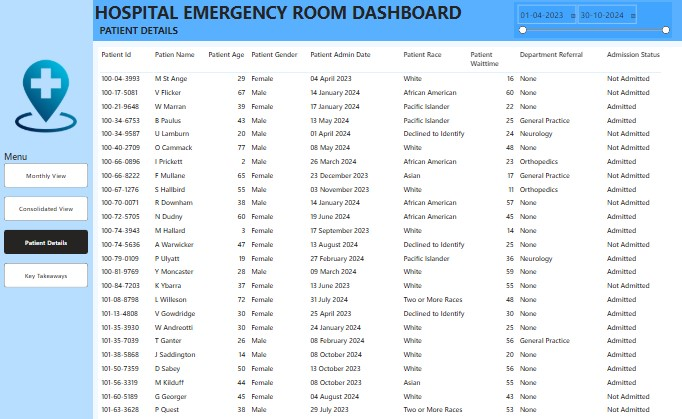

What the dashboard file says about the page in this screenshot:
{"tool":"powerbi","page":{"name":"Patient Details","canvas":[2300,1400],"ordinal":2},"visuals":[{"type":"shape","box":[9.1,0,310,1400.5],"z":0},{"type":"shape","box":[319.9,0,1980.1,140],"z":1000},{"type":"textbox","box":[320.6,0,1441.2,120.6],"z":2000},{"type":"textbox","box":[336.7,76.7,380,63.3],"z":3000},{"type":"slicer","fields":{"Values":["Date table.Date"]},"box":[1723.3,10,526.7,120],"z":4000},{"type":"image","box":[36.7,93.3,253.3,460],"z":5000},{"type":"tableEx","fields":{"Values":["Hospital ER_Data.Patient Id","Hospital ER_Data.Patien full name","Sum(Hospital ER_Data.Patient Age)","Hospital ER_Data.Patient Gender","Hospital ER_Data.Patient Admin Date","Hospital ER_Data.Patient Race","Sum(Hospital ER_Data.Patient Waittime)","Hospital ER_Data.Department Referral","Hospital ER_Data.Admission Status"]},"box":[337.1,160,1962.9,1240],"z":6000},{"type":"pageNavigator","box":[23.3,503.3,280,460],"z":6001}]}

Visuals, with their boxes in screenshot pixels (x1, y1, x2, y2), scaled from the page's 2300x1400 canvas onto the 682x419 screenshot:
shape: [left=3, top=0, right=95, bottom=418]
shape: [left=95, top=0, right=681, bottom=42]
textbox: [left=95, top=0, right=522, bottom=36]
textbox: [left=100, top=23, right=213, bottom=42]
slicer - Date table.Date: [left=511, top=3, right=667, bottom=39]
image: [left=11, top=28, right=86, bottom=166]
tableEx - Hospital ER_Data.Patient Id x Hospital ER_Data.Patien full name: [left=100, top=48, right=681, bottom=418]
pageNavigator: [left=7, top=151, right=90, bottom=288]
